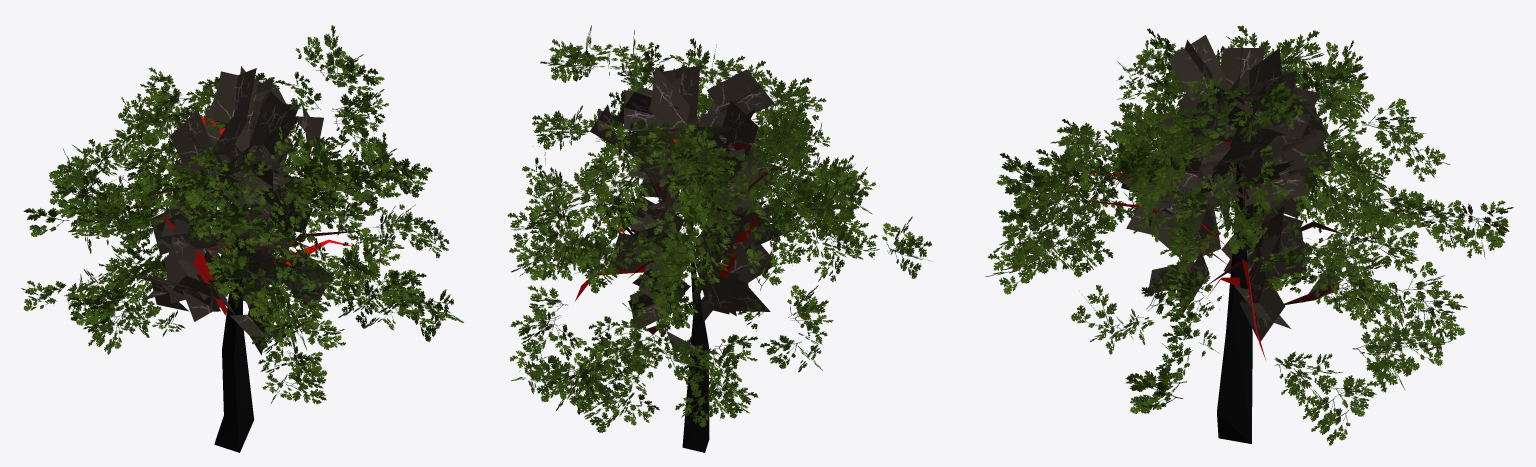
File: maple4 lod3.FBX
The picture shows the model from 3 angles, left to right: view 1: azimuth 30°, elevation 25°; view 2: azimuth 150°, elevation 25°; view 3: azimuth 270°, elevation 25°; orthographic projection. The views are drawn at different scales.
Visible parts, largest first — view 1: maple4_LOD3; view 2: maple4_LOD3; view 3: maple4_LOD3.
Part boxes in pixels (<box>): maple4_LOD3: <box>21,25,463,452</box>; maple4_LOD3: <box>507,25,931,452</box>; maple4_LOD3: <box>985,25,1513,445</box>.
Size of the model in its own units: 129134 by 120394 by 141129.
